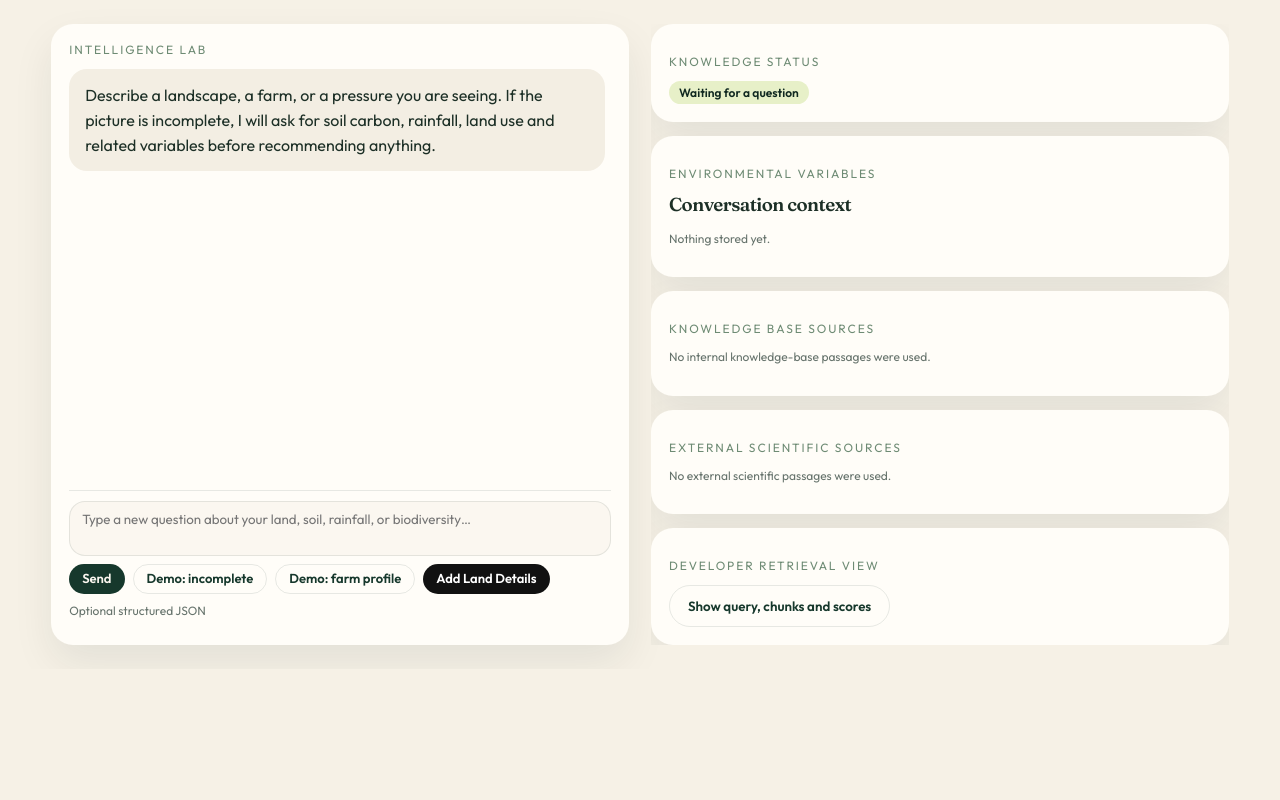
Test: Intelligence Lab land details › maps parent recommendation fields when item details are empty
The image size is (1280, 800).
What coordinates should you click on to do the following:
click the button "Demo: farm profile"
I would click on:
 (345, 579)
Its box is [275,564,415,594].
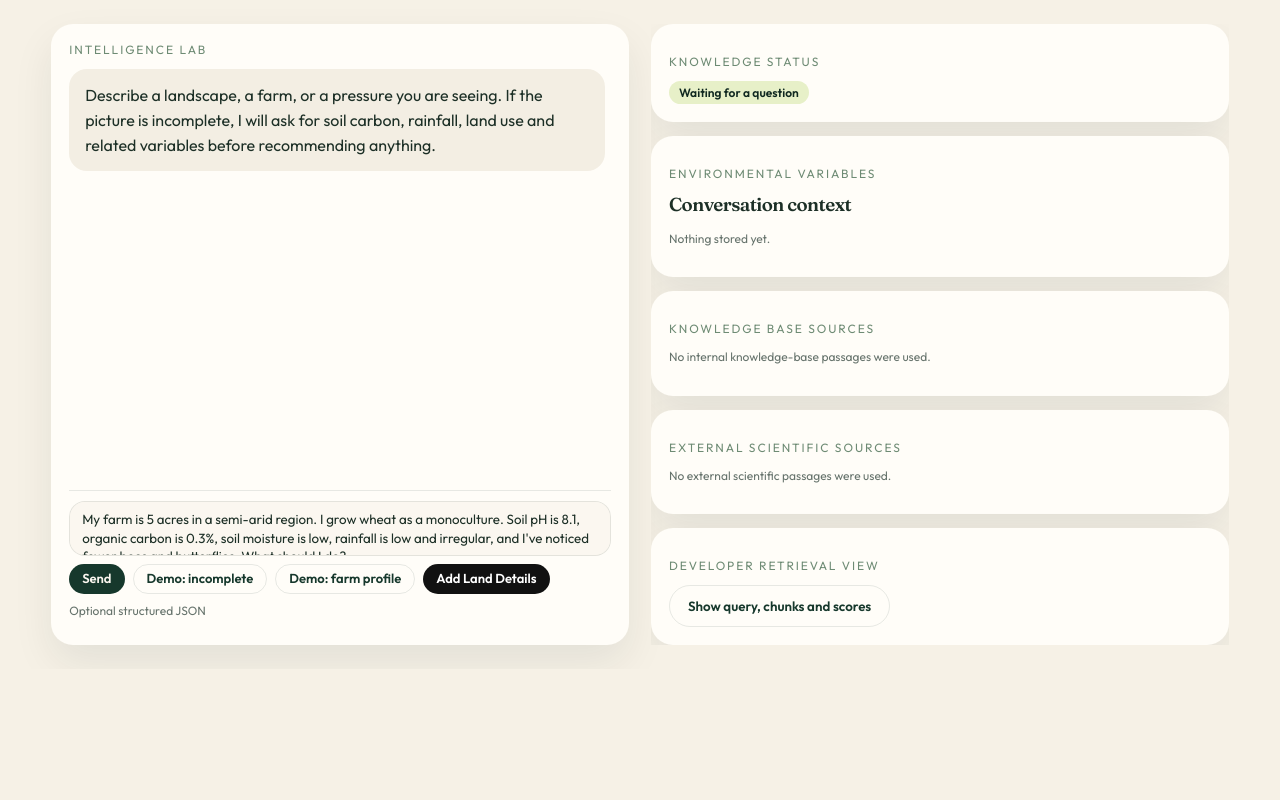
What coordinates should you click on to do the following:
click the button "Send"
I would click on:
 (97, 579)
Its box is [69,564,124,594].
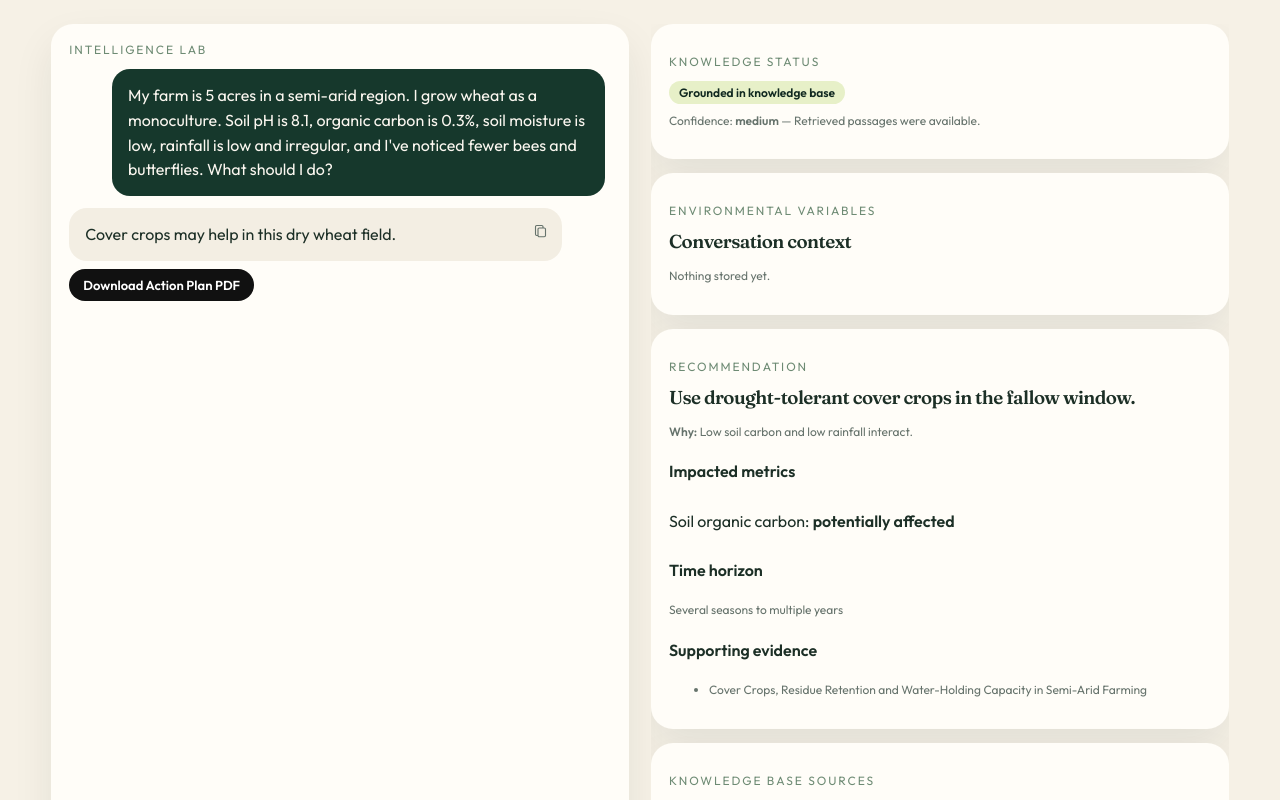
Expected: the element with test id "recommendation-panel" is shown, [651,329,1229,729]
Expected: the text "Why: Low soil carbon and low rainfall interact." is shown, [669,424,913,439]
Expected: the text "Soil organic carbon: potentially affected" is shown, [669,511,955,531]
